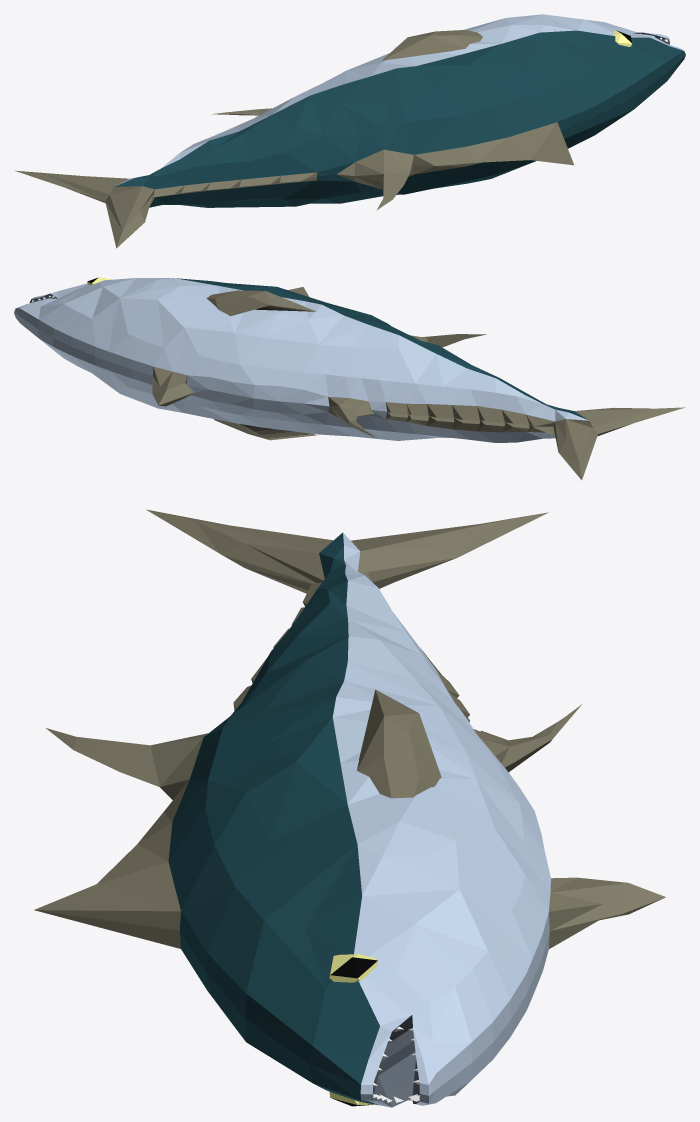
The model's file is Tuna.glb.
3 renders of one model, top to bottom at view 1: azimuth 30°, elevation 25°; view 2: azimuth 150°, elevation 25°; view 3: azimuth 270°, elevation 25°, orthographic. The views are drawn at different scales.
Parts seen in each view (by area): view 1: Tuna; view 2: Tuna; view 3: Tuna.
Boxes of the visible parts, x1,y1,x2,y2 form: Tuna: [15, 14, 685, 248]; Tuna: [14, 277, 685, 480]; Tuna: [34, 509, 665, 1107].
Bounding box in the file's own units: 2.75 × 0.631 × 1.25.
1 material, 1 textured.
